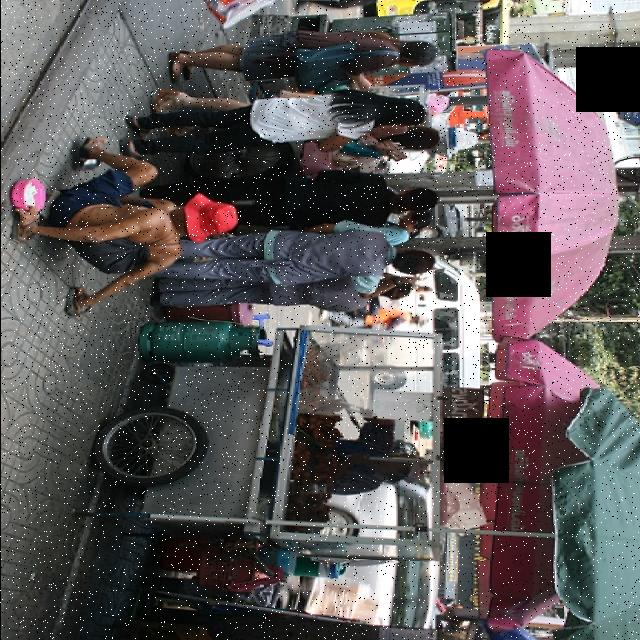food-booth: (89, 320, 595, 630)
